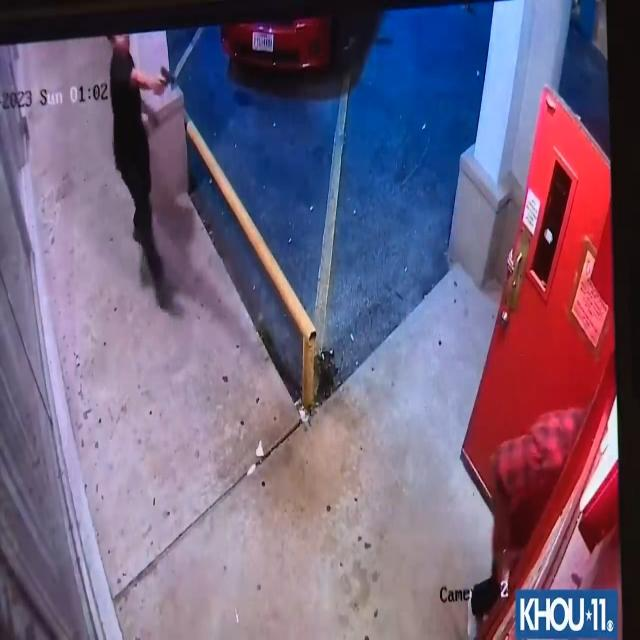Gun_Holder: (154, 59, 178, 97)
Person: (465, 388, 581, 639), (94, 30, 178, 299)
